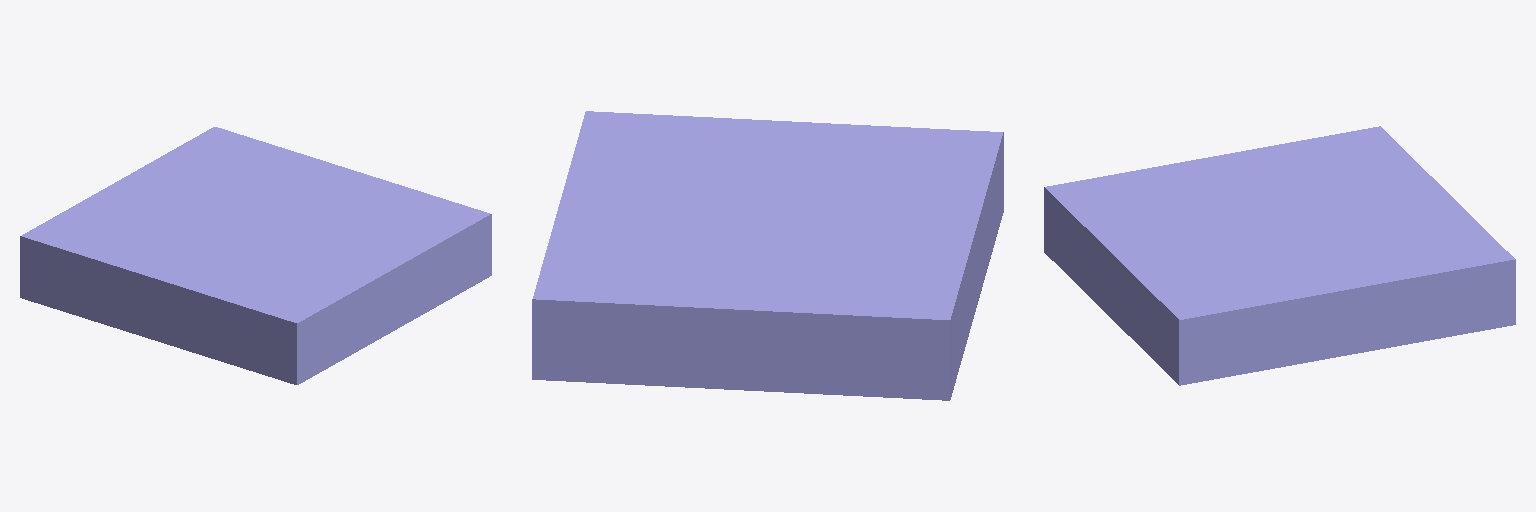
robot.urdf — Interference:
<?xml version="1.0"?>
<robot name="Interference">
  <link name="baseLink">
    <inertial>
      <origin xyz="0.0 0.0 0.0" rpy="0.0 0.0 0.0"/>
      <inertia ixx="0.0" ixy="0.0" ixz="0.0" iyy="0.0" iyz="0.0" izz="0.0"/>
      <mass value="0"/>
    </inertial>
    <visual>
      <origin xyz="0.0 0.0 0.0" rpy="0.0 0.0 -1.1661164380678306"/>
      <geometry>
        <box size="0.05051738732376146 0.04738691438045444 0.01"/>
      </geometry>
      <material name="color">
        <color rgba="0.708517542063039 0.7075993360137103 0.9632837028057444 1.0"/>
      </material>
    </visual>
  </link>
</robot>

--- Facts derived from the render (not from the file) ---
3 views of the same robot in one strip: view 1: azimuth 30°, elevation 25°; view 2: azimuth 150°, elevation 25°; view 3: azimuth 270°, elevation 25° (orthographic).
Model Interference with 1 links and 0 joints (none), rooted at baseLink, posed all joints at 0.
Links seen in each view (by area): view 1: baseLink; view 2: baseLink; view 3: baseLink.
Link boxes in pixels (bbox=[...]): baseLink: bbox=[20, 127, 491, 384]; baseLink: bbox=[532, 111, 1003, 400]; baseLink: bbox=[1044, 126, 1515, 385].
Size in the robot's own frame: 0.0634 by 0.0651 by 0.01 metres.
Geometry: primitives only (box / cylinder / sphere), no mesh files.